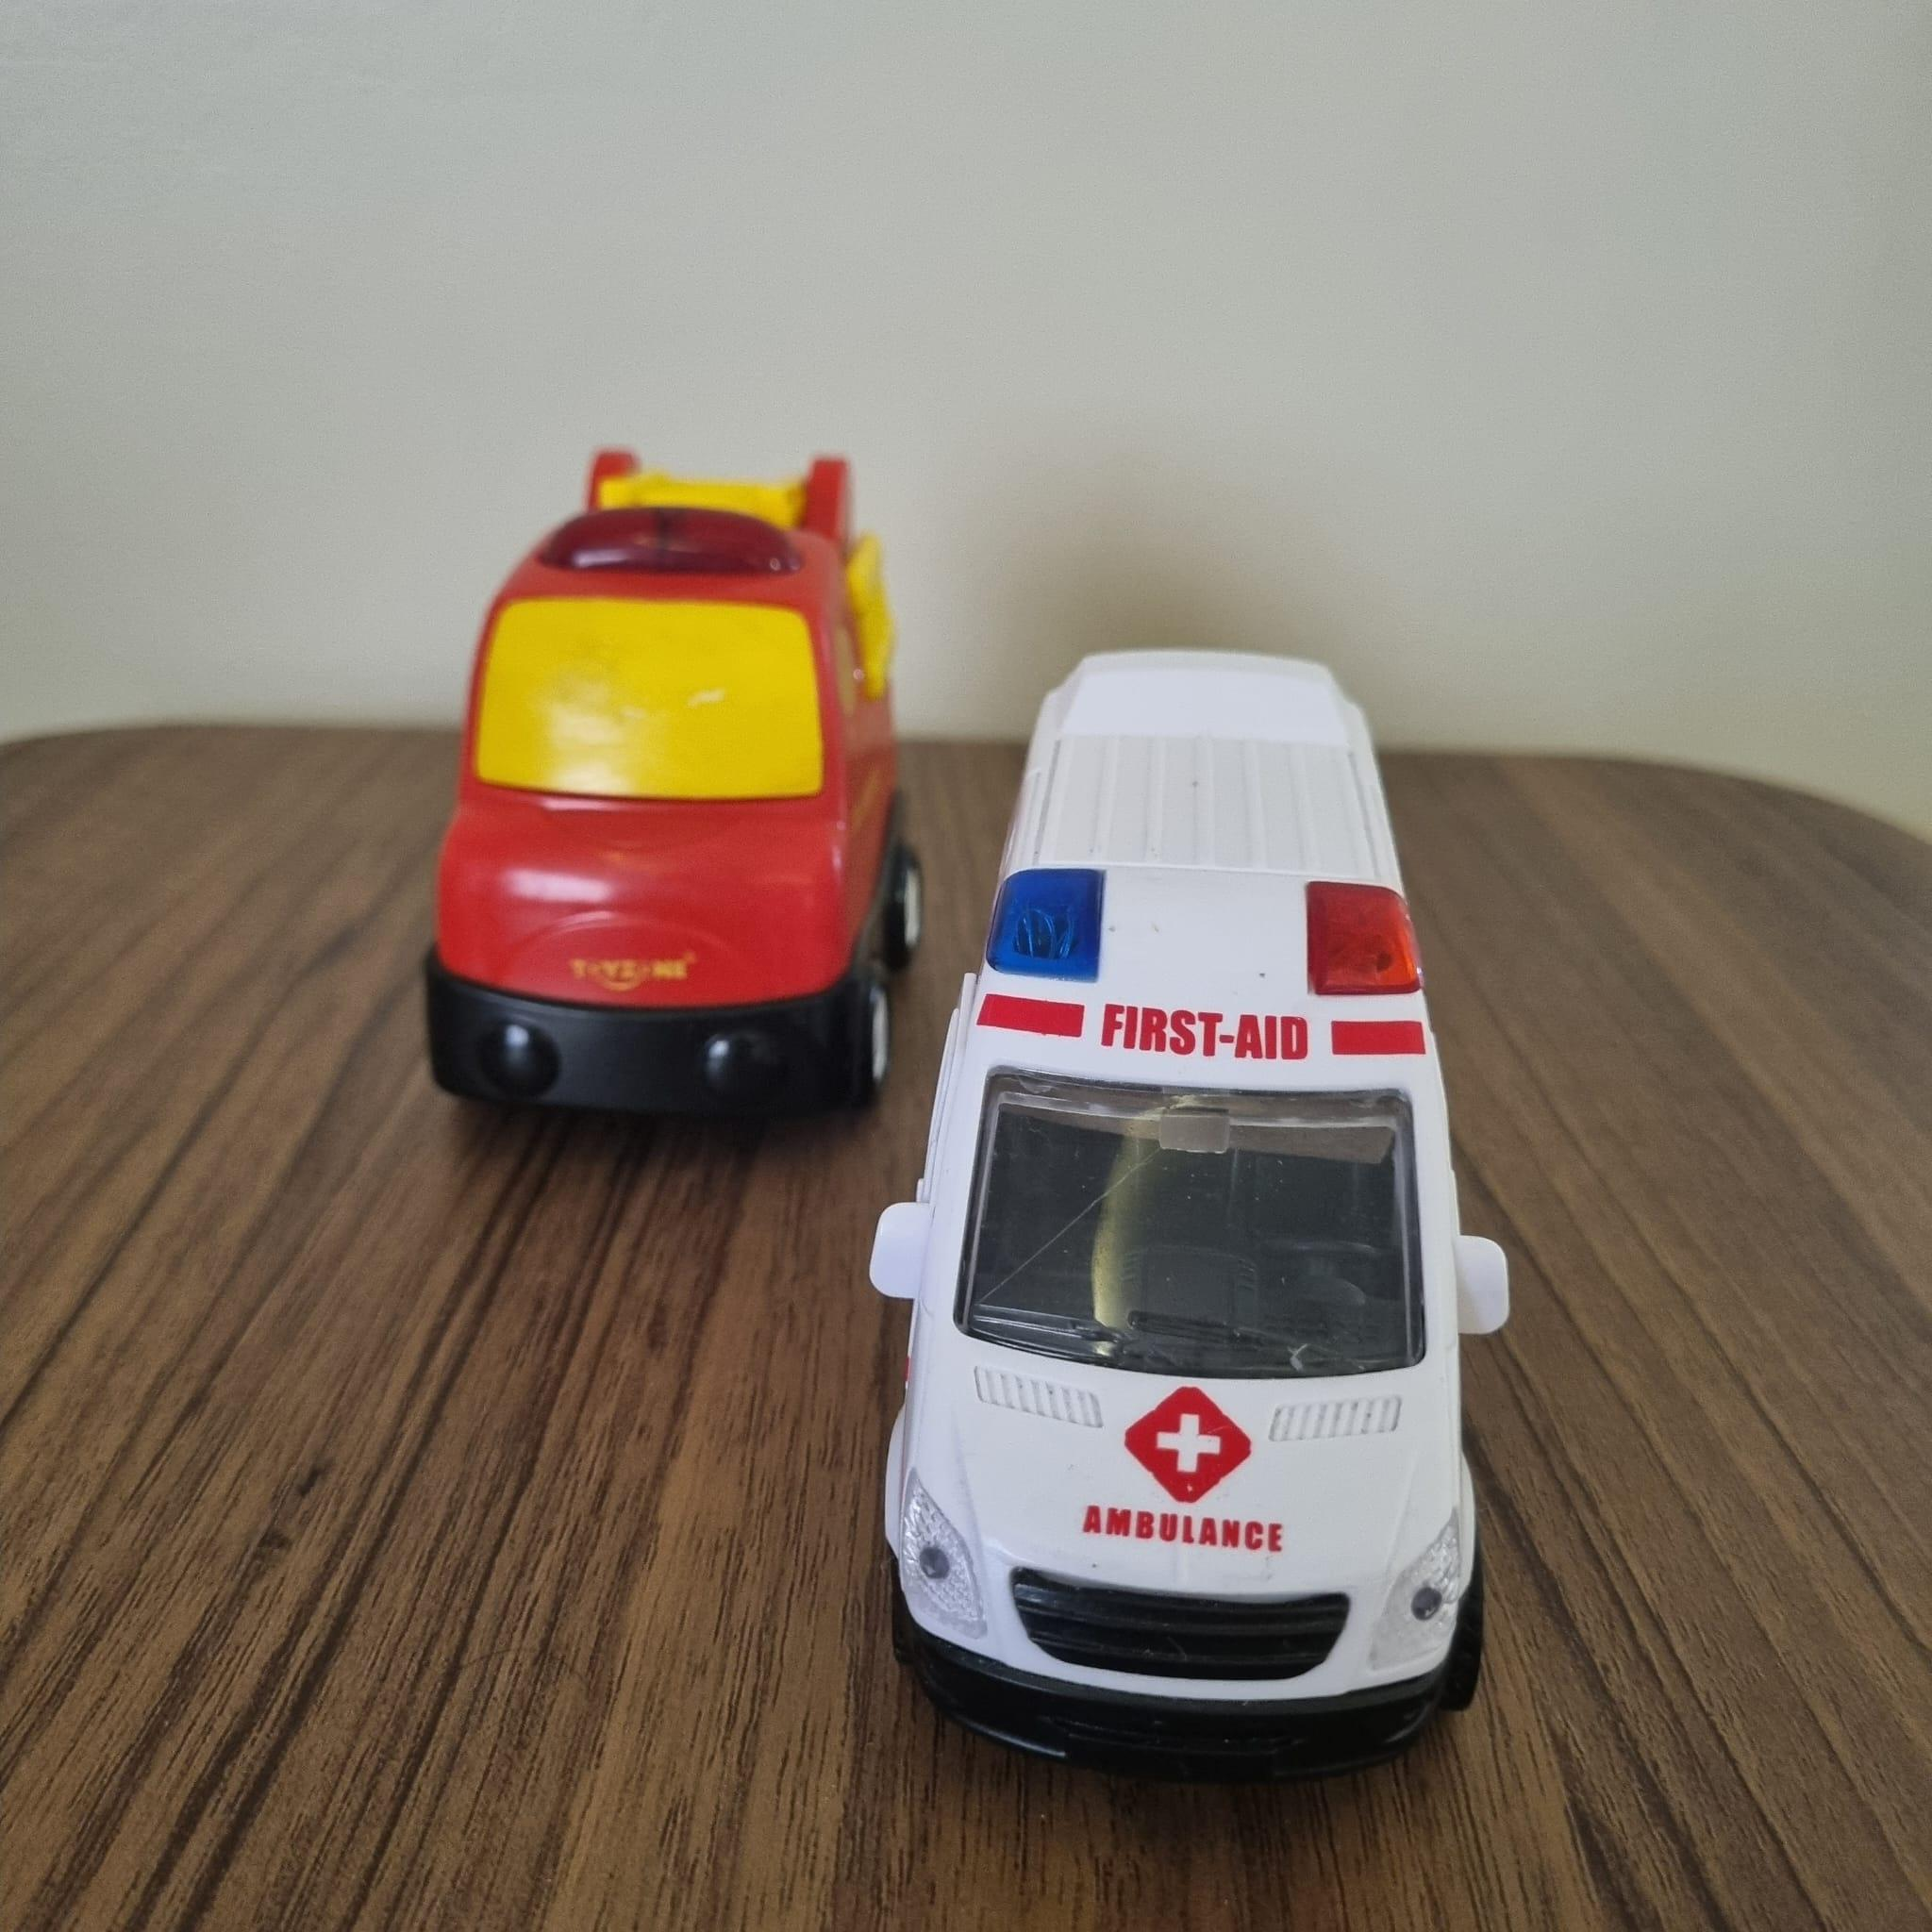ambulance_off: (870, 651, 1509, 1764)
firetruck_off: (423, 449, 922, 1143)
